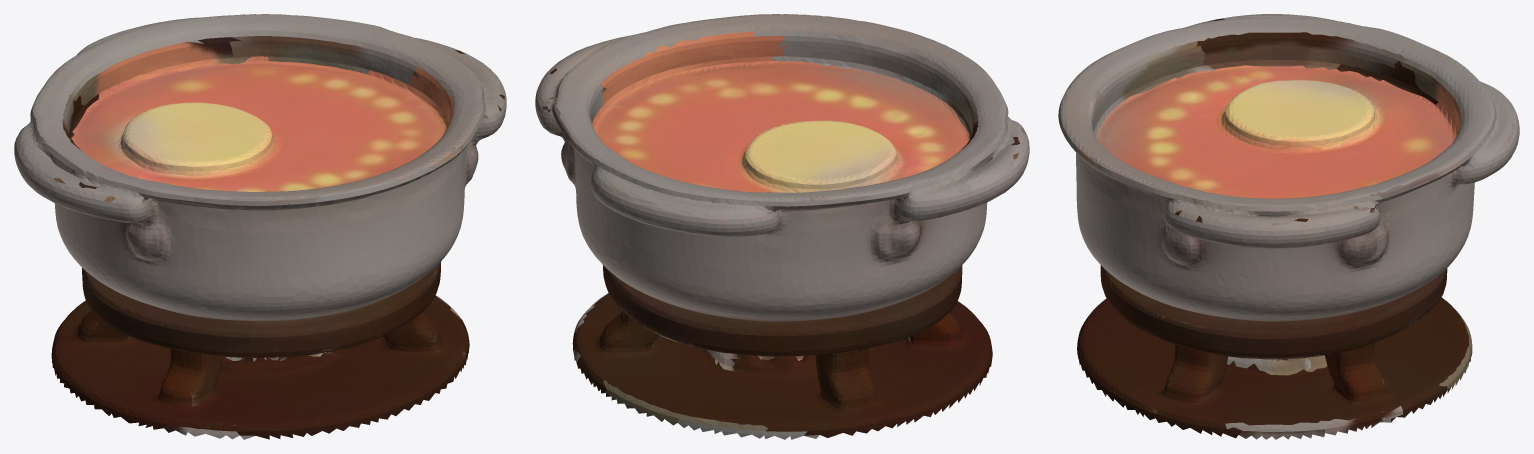
File: garak_kit_stove.glb
The picture shows the model from 3 angles, left to right: view 1: azimuth 30°, elevation 25°; view 2: azimuth 150°, elevation 25°; view 3: azimuth 270°, elevation 25°; orthographic projection. The views are drawn at different scales.
Parts seen in each view (by area): view 1: garak_kit_stove.obj; view 2: garak_kit_stove.obj; view 3: garak_kit_stove.obj.
Boxes of the visible parts, left/top/right/bottom form: garak_kit_stove.obj: left=14, top=14, right=506, bottom=439; garak_kit_stove.obj: left=535, top=14, right=1029, bottom=439; garak_kit_stove.obj: left=1058, top=14, right=1519, bottom=439.
Size of the model in its own units: 0.6297 by 0.3282 by 0.566.
1 material, 1 textured.
